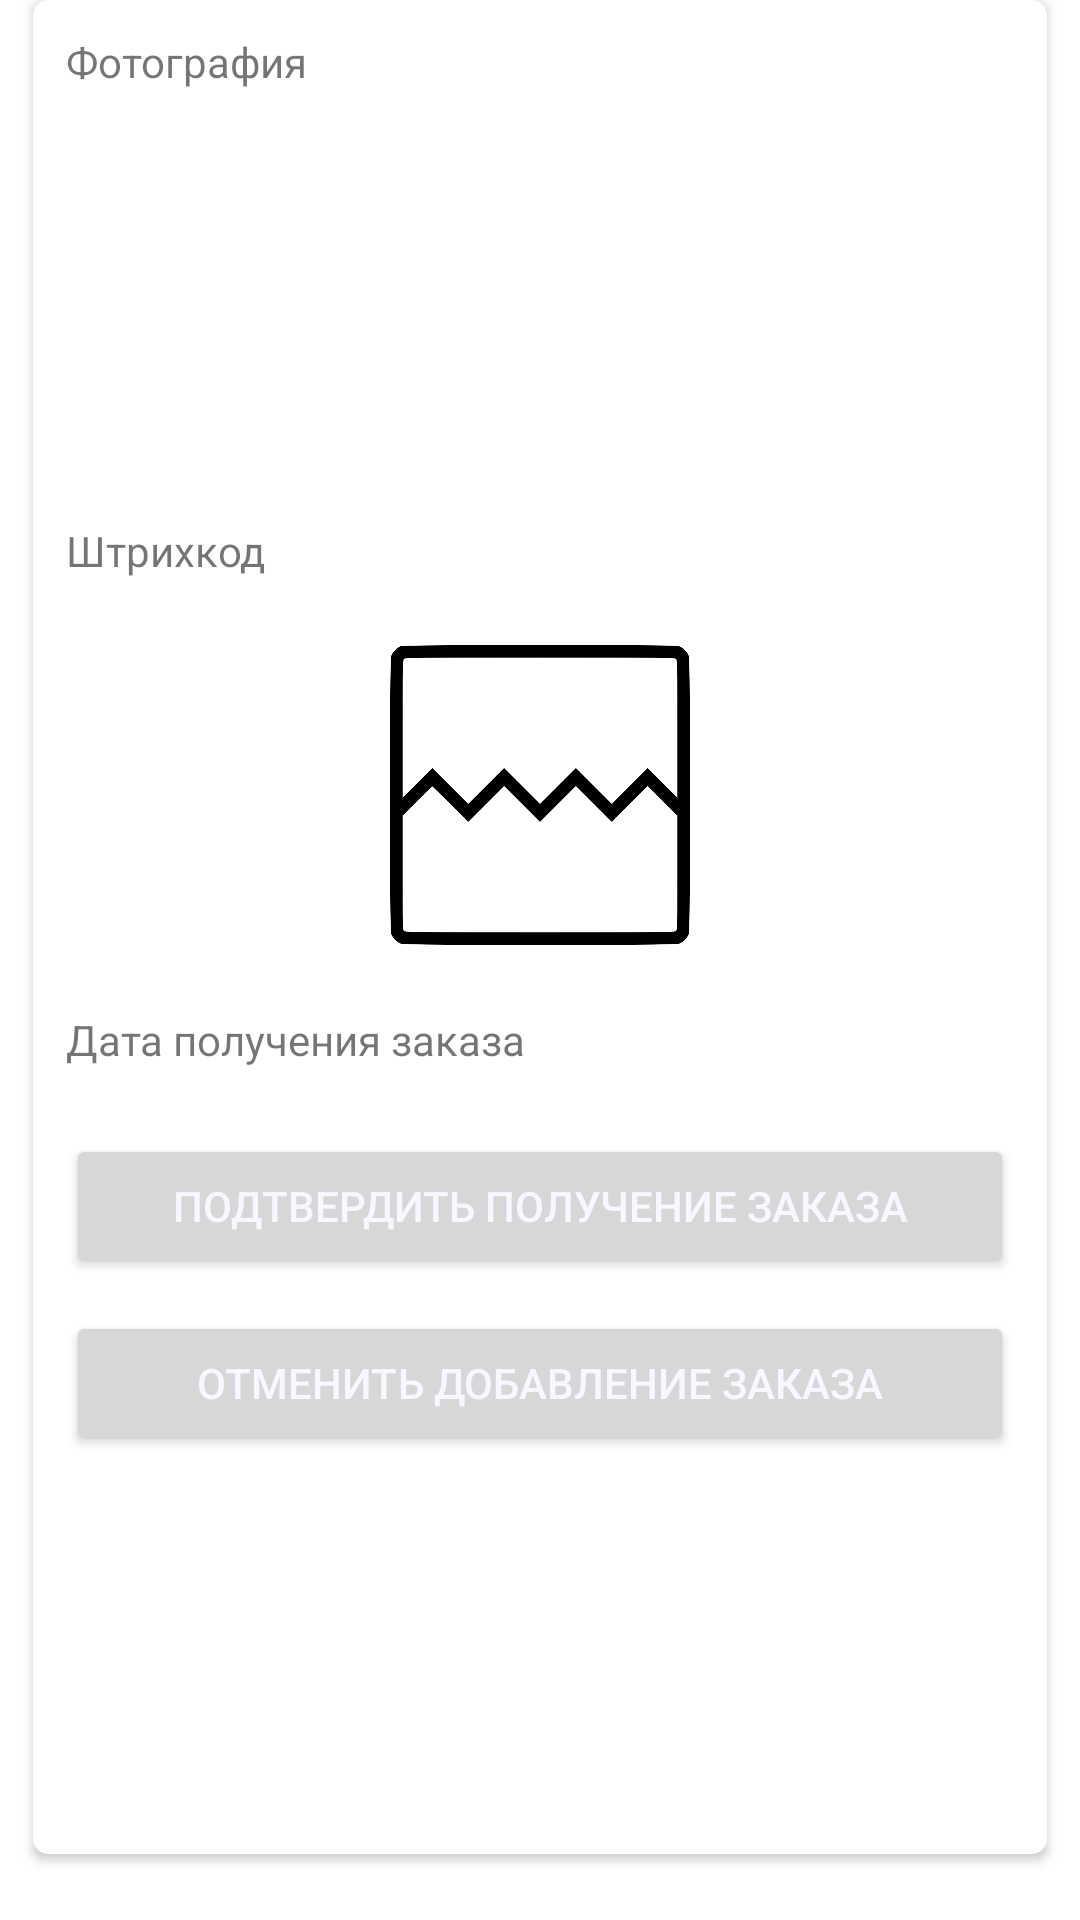

Icons on this 1080 x 1920 Android screen, each with the point to tap as (x=x, y=y):
none iamge: (x=540, y=795)
